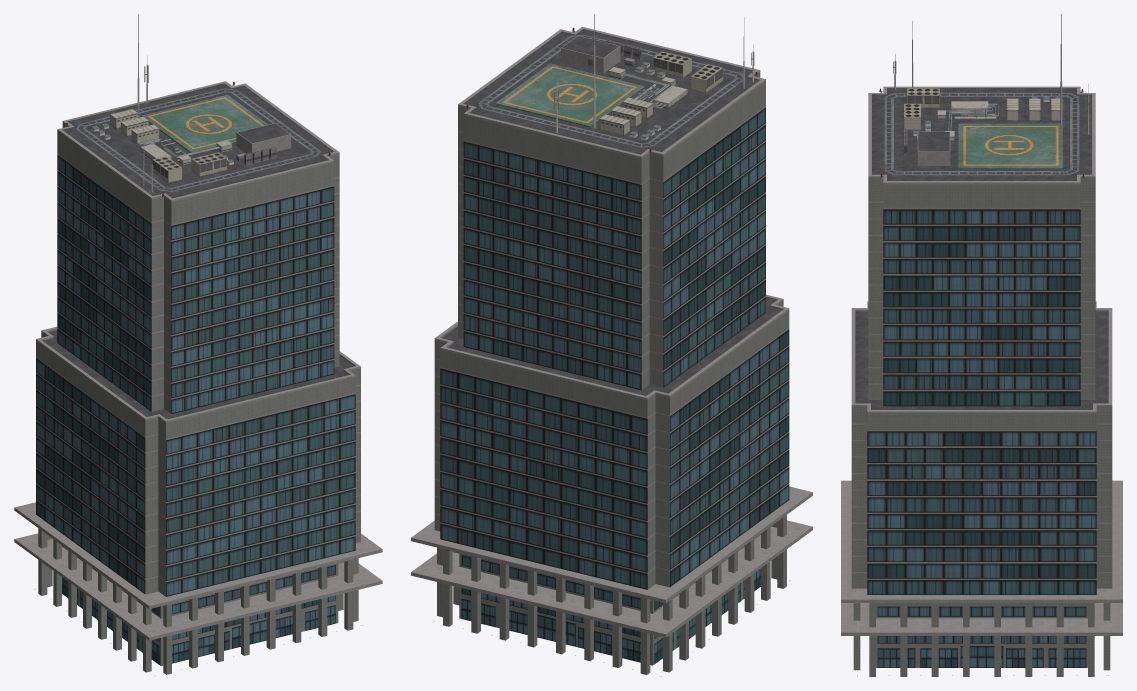
Rendered from building_Eb.FBX.
The picture shows the model from 3 angles, left to right: view 1: azimuth 30°, elevation 25°; view 2: azimuth 150°, elevation 25°; view 3: azimuth 270°, elevation 25°; orthographic projection. The views are drawn at different scales.
Parts seen in each view (by area): view 1: building_Eb; view 2: building_Eb; view 3: building_Eb.
Boxes of the visible parts, bbox=[...] form: building_Eb: bbox=[14, 14, 382, 676]; building_Eb: bbox=[411, 14, 812, 676]; building_Eb: bbox=[841, 14, 1122, 676].
Size of what is drawn, in the model's own units: 1918 by 1918 by 4483.
